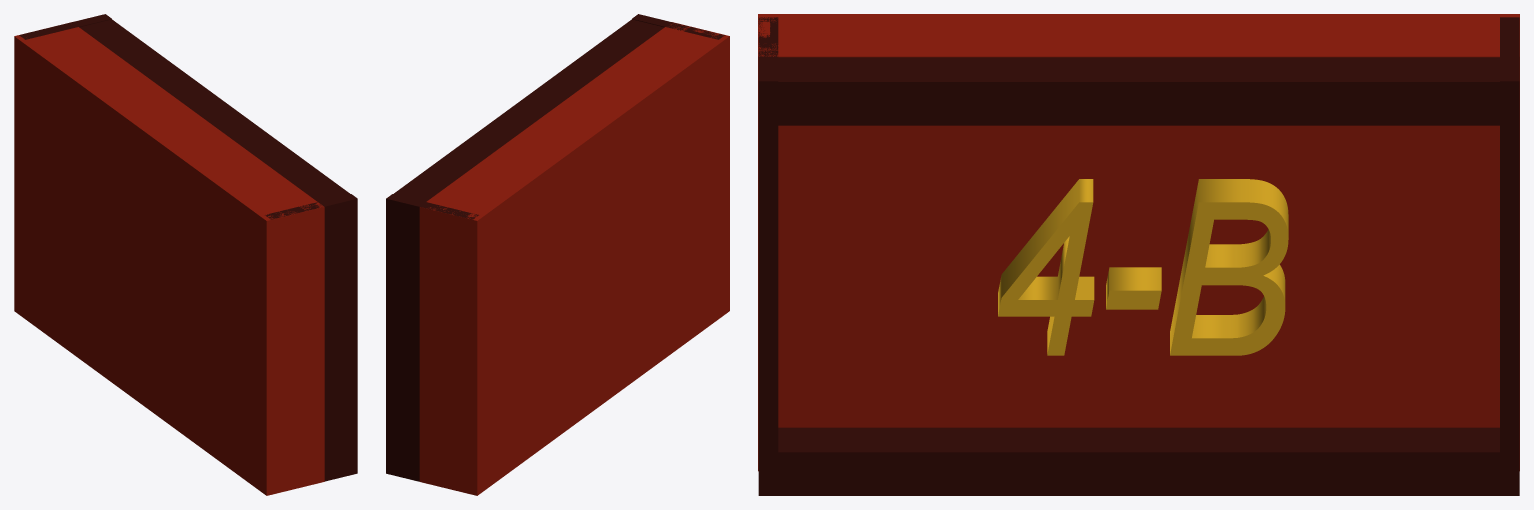
The picture shows the model from 3 angles, left to right: view 1: azimuth 30°, elevation 25°; view 2: azimuth 150°, elevation 25°; view 3: azimuth 270°, elevation 25°; orthographic projection. The views are drawn at different scales.
Parts seen in each view (by area): view 1: Text; view 2: Text; view 3: Text.
Part boxes in pixels (x1,y1,x2,y2): Text: (14, 14, 357, 495); Text: (386, 14, 729, 495); Text: (758, 14, 1519, 495).
Size of the model in its own units: 69.49 by 200 by 333.
